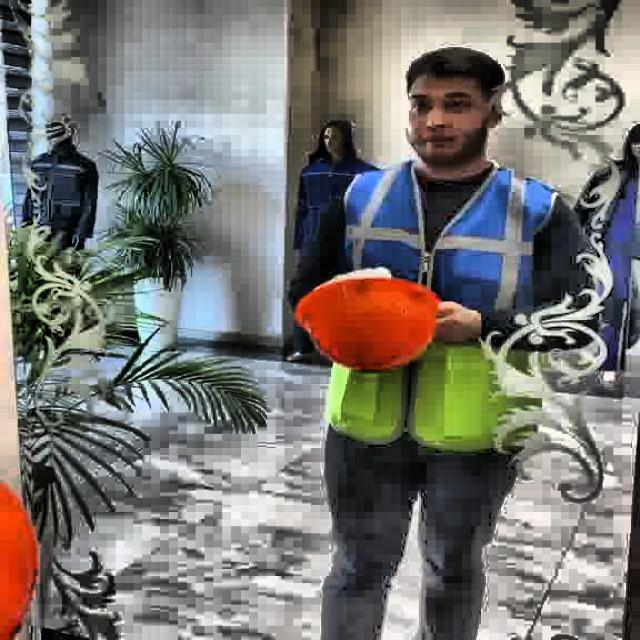safety_helmet: (290, 274, 442, 372)
safety_jacket: (318, 159, 562, 453)
